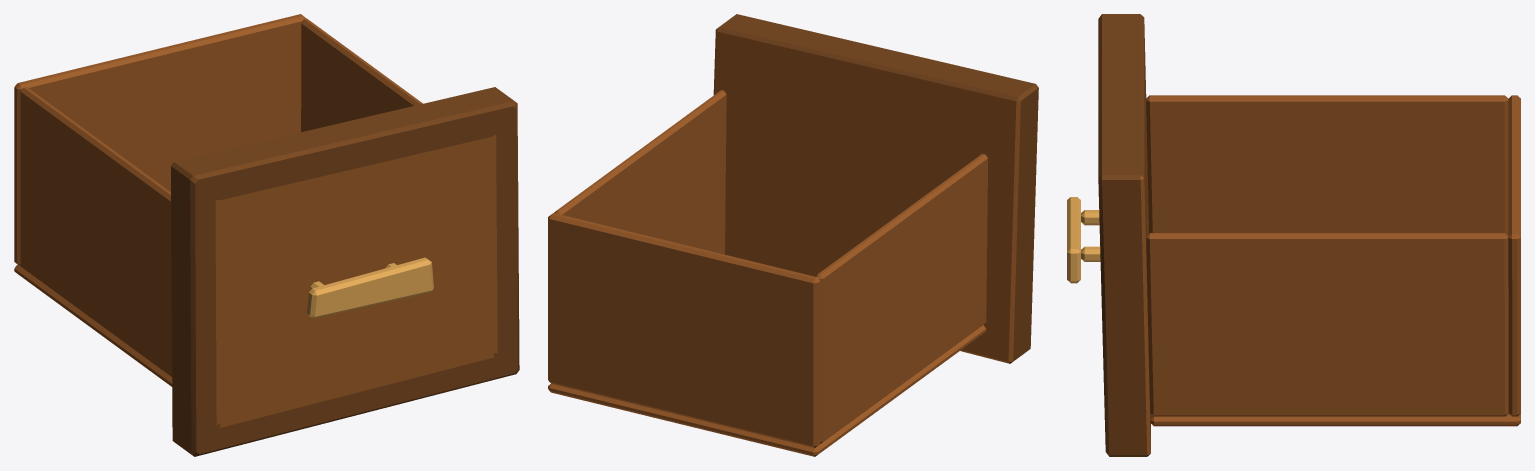
File: File_cabinet_Box_1.fbx
3 views of the same model, side by side, from view 1: azimuth 30°, elevation 25°; view 2: azimuth 150°, elevation 25°; view 3: azimuth 270°, elevation 25° (orthographic). The views are drawn at different scales.
Parts seen in each view (by area): view 1: File_cabinet_Box_1; view 2: File_cabinet_Box_1; view 3: File_cabinet_Box_1.
Part boxes in pixels (x1,y1,x2,y2): File_cabinet_Box_1: [14, 14, 519, 456]; File_cabinet_Box_1: [548, 14, 1038, 456]; File_cabinet_Box_1: [1067, 14, 1520, 456].
Bounding box in the file's own units: 0.4469 × 0.3656 × 0.5242.
